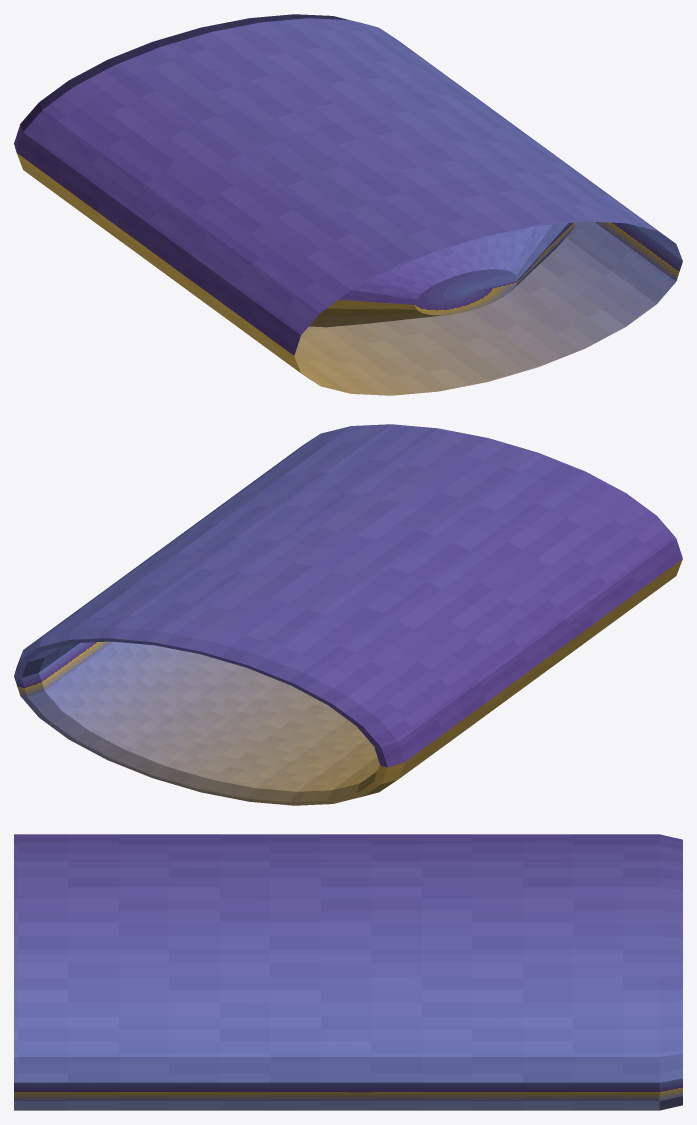
Rendered from exhaust_oval.obj.
The picture shows the model from 3 angles, top to bottom: view 1: azimuth 30°, elevation 25°; view 2: azimuth 150°, elevation 25°; view 3: azimuth 270°, elevation 25°; orthographic projection. The views are drawn at different scales.
Size of the model in its own units: 0.21 by 0.0756 by 0.2693.
Materials: 1 (1 with a texture image).
